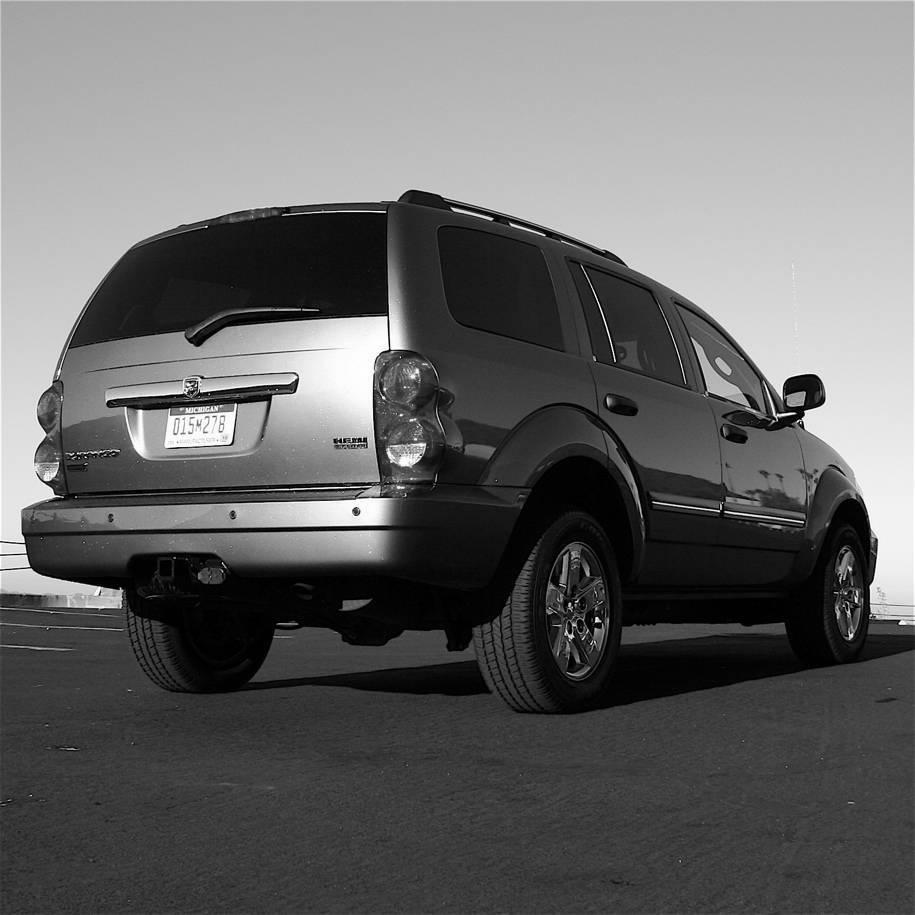car: (19, 184, 886, 722)
